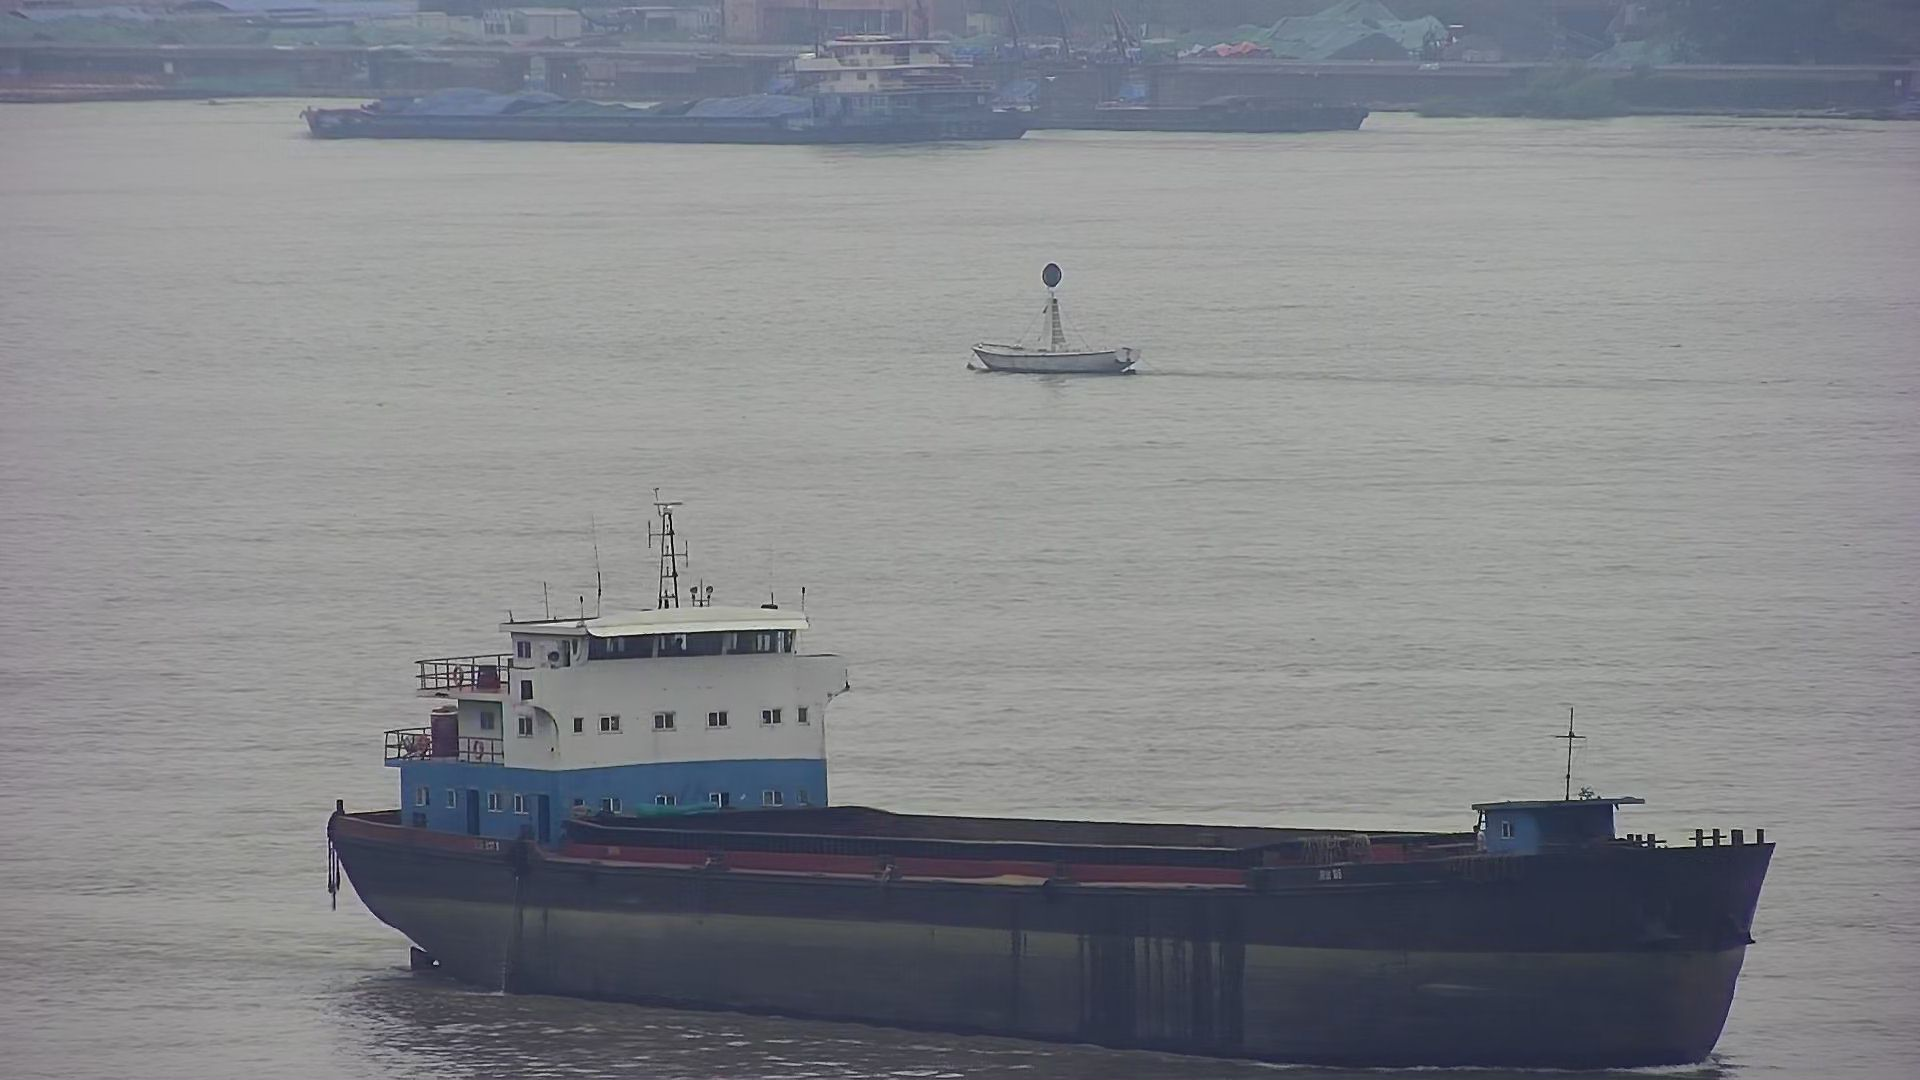boat: (969, 261, 1139, 375)
ship: (313, 497, 1778, 1069), (310, 38, 1025, 145), (890, 51, 1371, 133)
